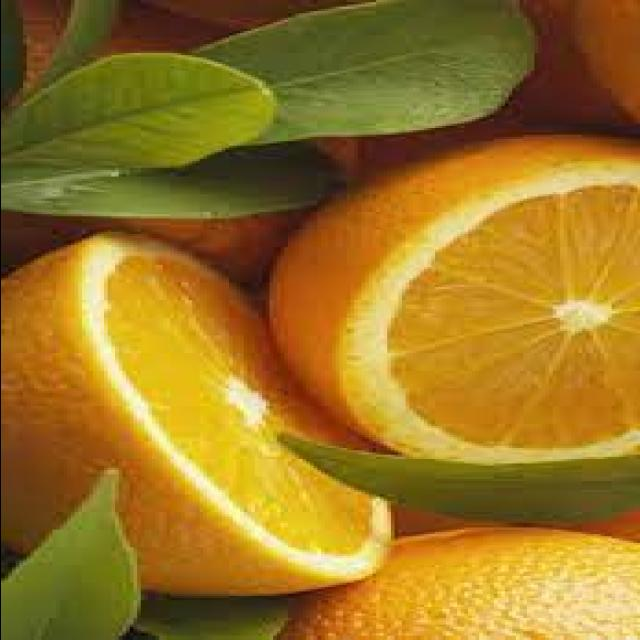orange: (284, 144, 640, 498)
